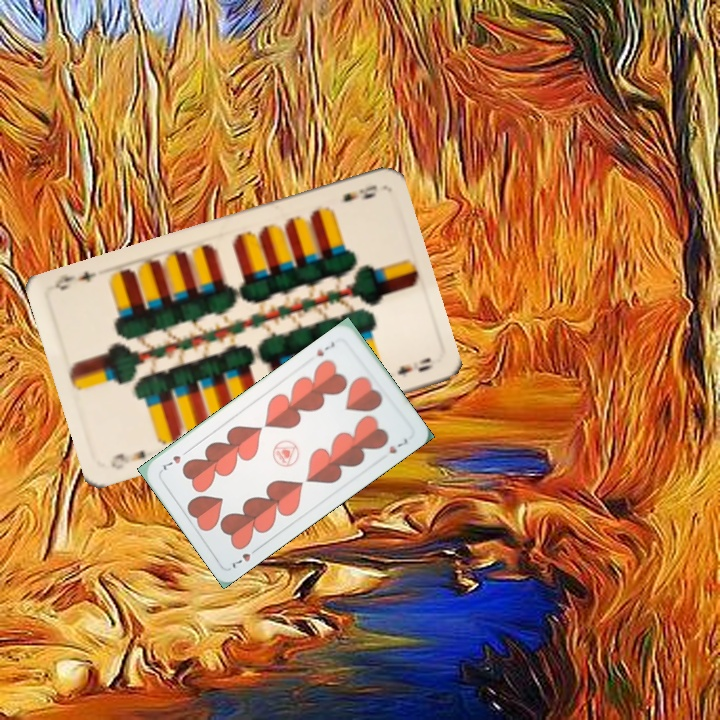E9: (106, 446, 148, 472), (338, 180, 380, 205)
H7: (226, 543, 262, 571), (313, 337, 338, 359)
